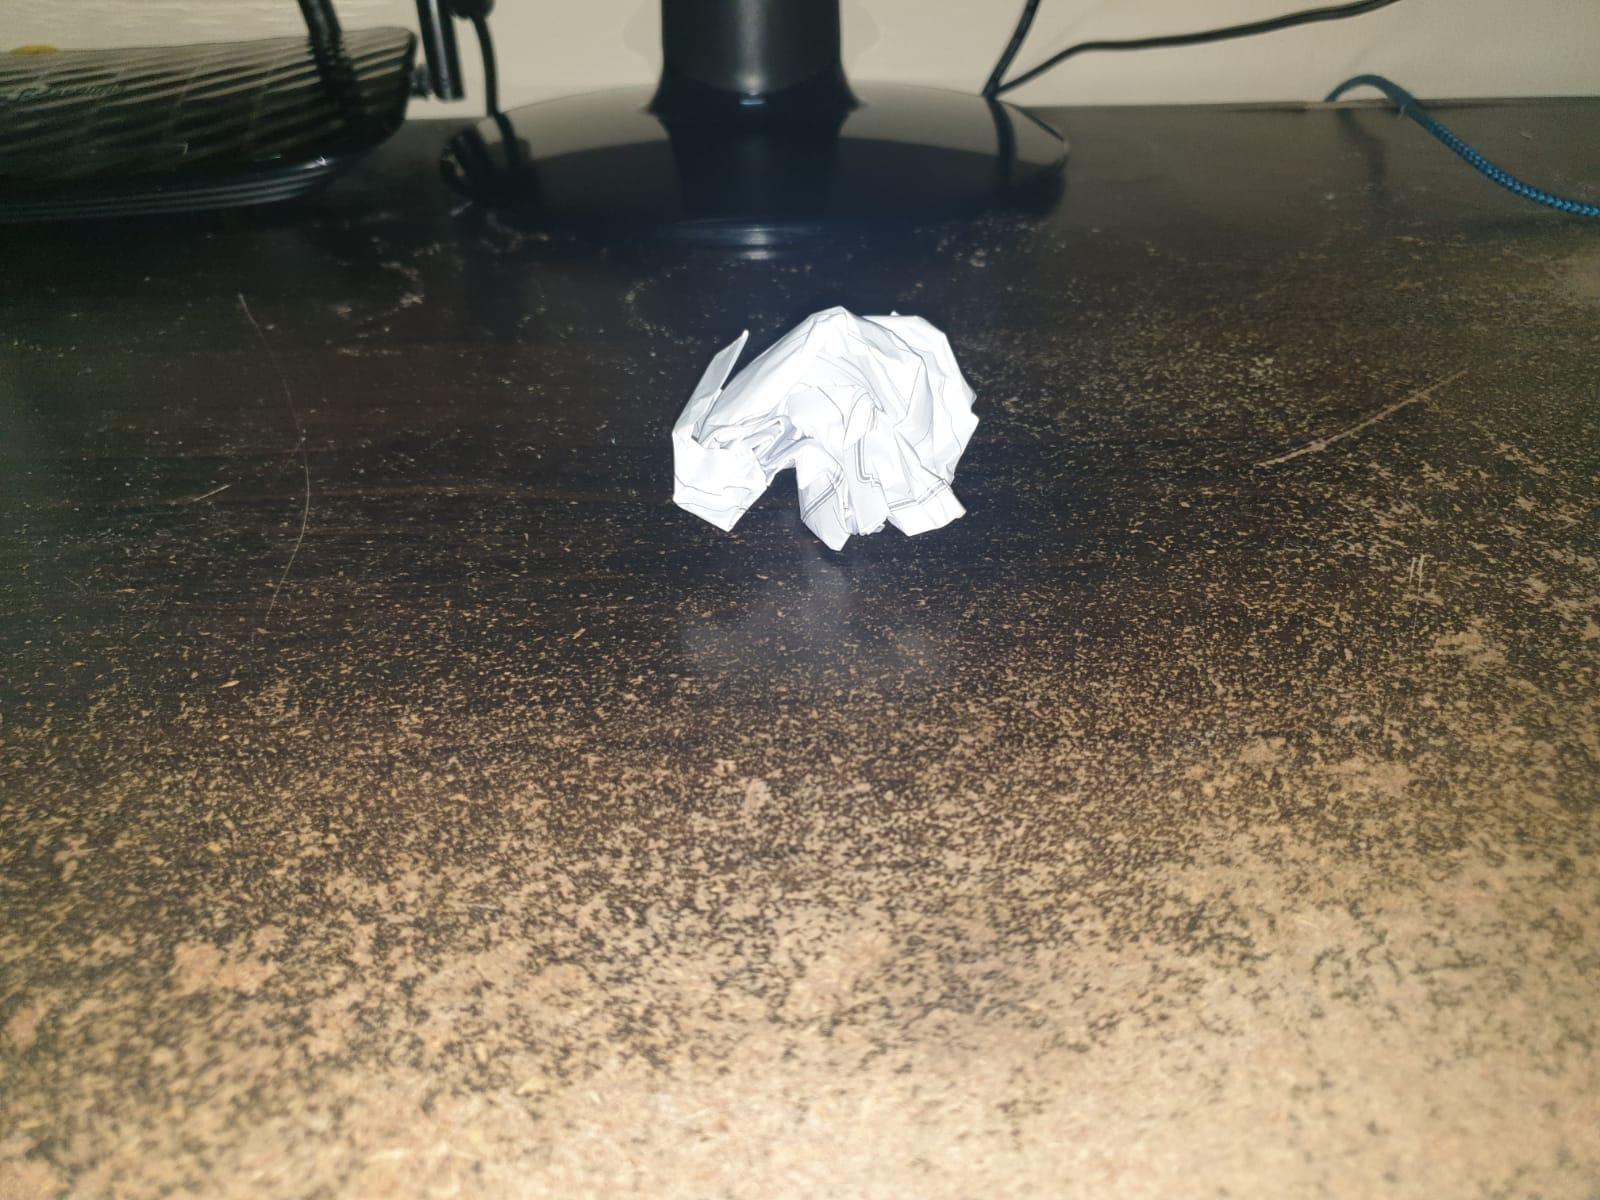Paper: (656, 293, 981, 562)
